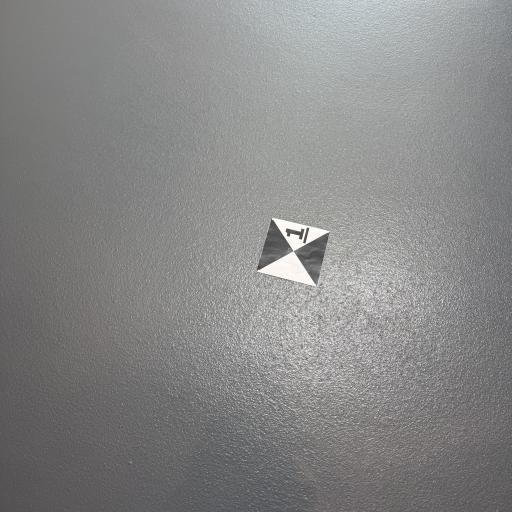target1: (247, 211, 334, 290)
